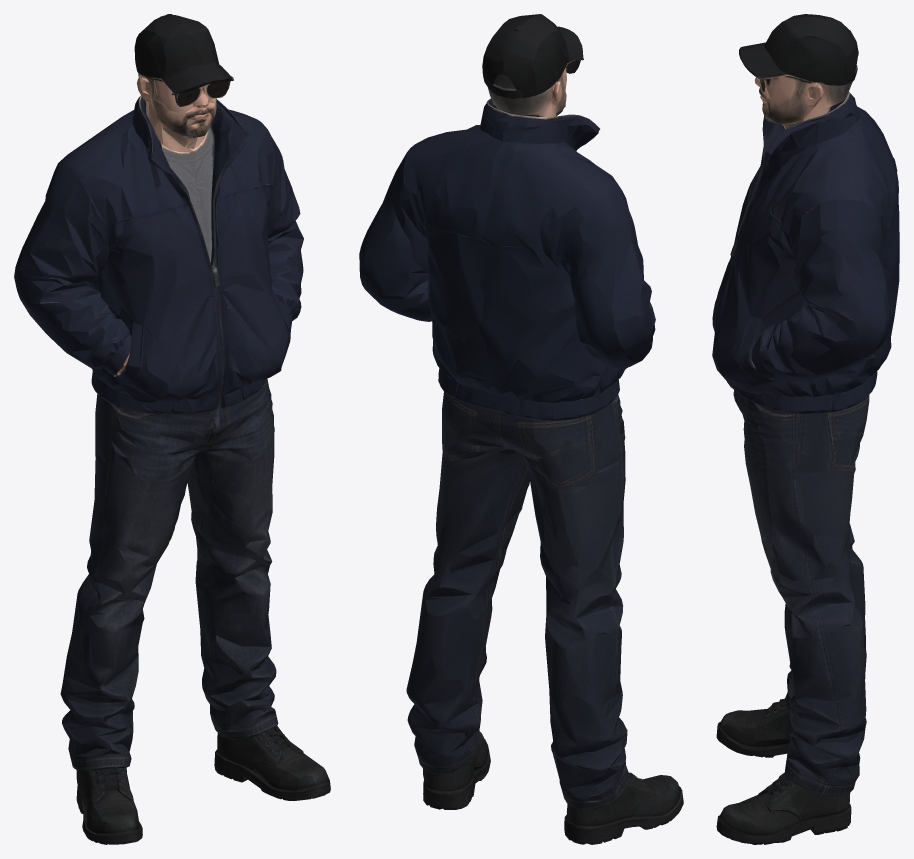
File: watcher.glb
The picture shows the model from 3 angles, left to right: view 1: azimuth 30°, elevation 25°; view 2: azimuth 150°, elevation 25°; view 3: azimuth 270°, elevation 25°; orthographic projection. The views are drawn at different scales.
Bounding box in the file's own units: 0.7057 × 1.9 × 0.4185.
1 material, 1 textured.
